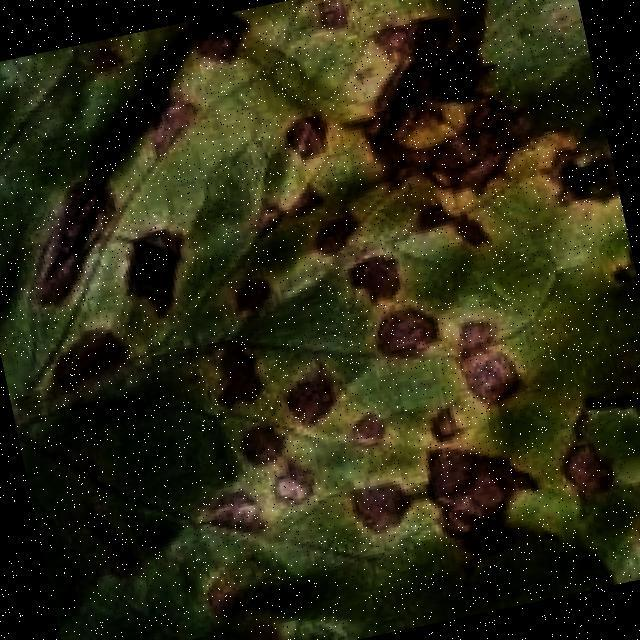Septoria_Blight: (0, 0, 599, 640)
